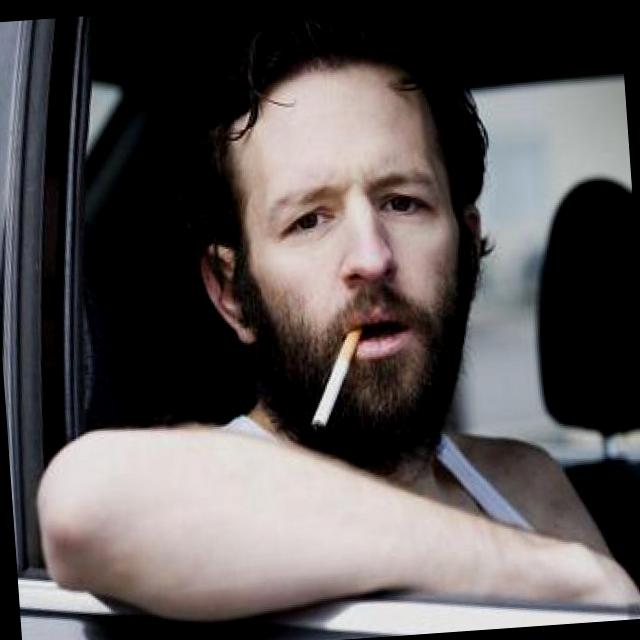cigarette: (289, 286, 396, 433)
